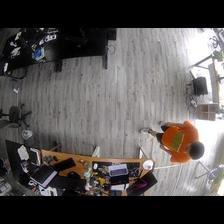normal: (139, 118, 205, 164)
